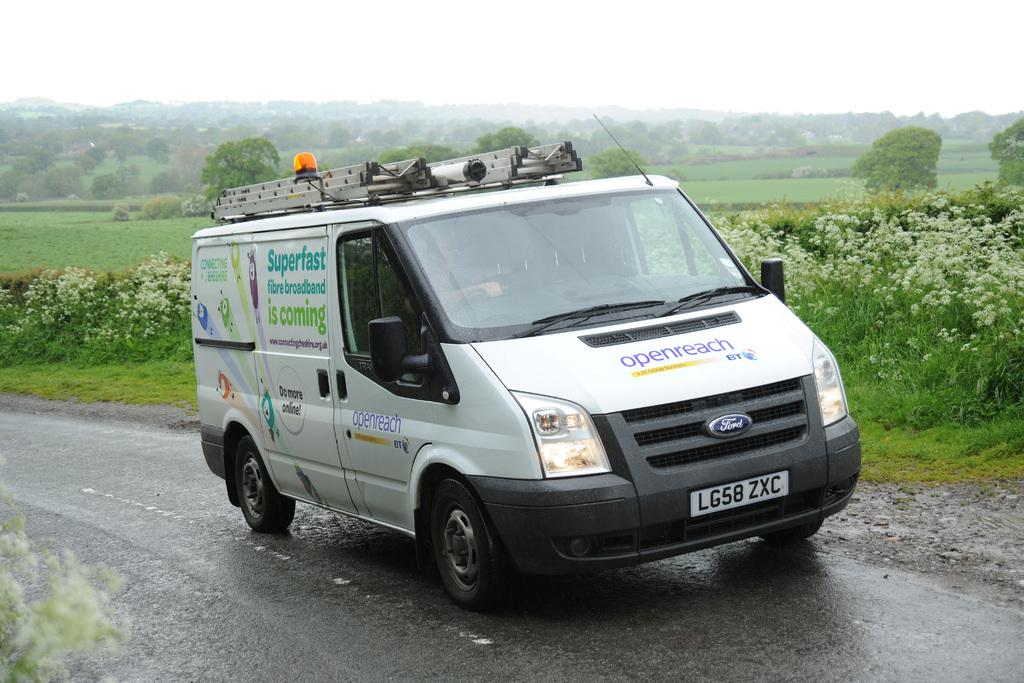vehicle: (190, 173, 863, 610)
